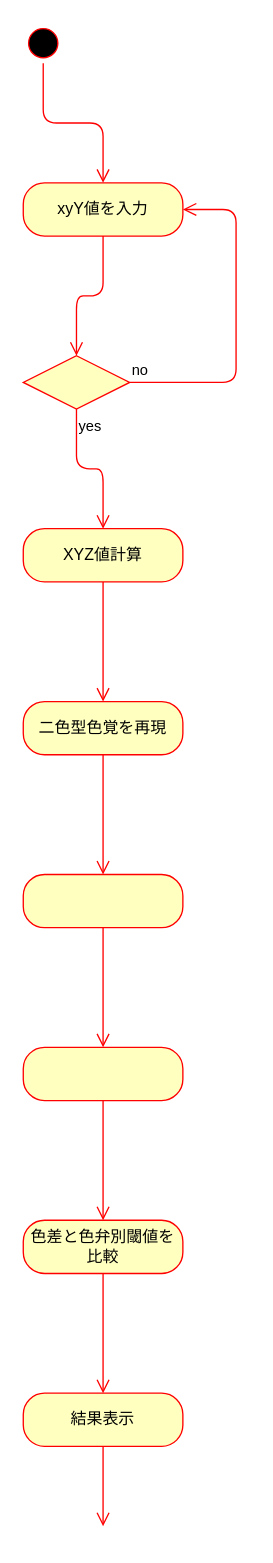
Image size: 273x1563. Some labels were removed from this diagram. The centre of each missing label's shape, as x and y in pixels:
Lab値に変換: (102,900)
色差算出: (102,1073)
色差計算のボタン押下された？: (76,381)
